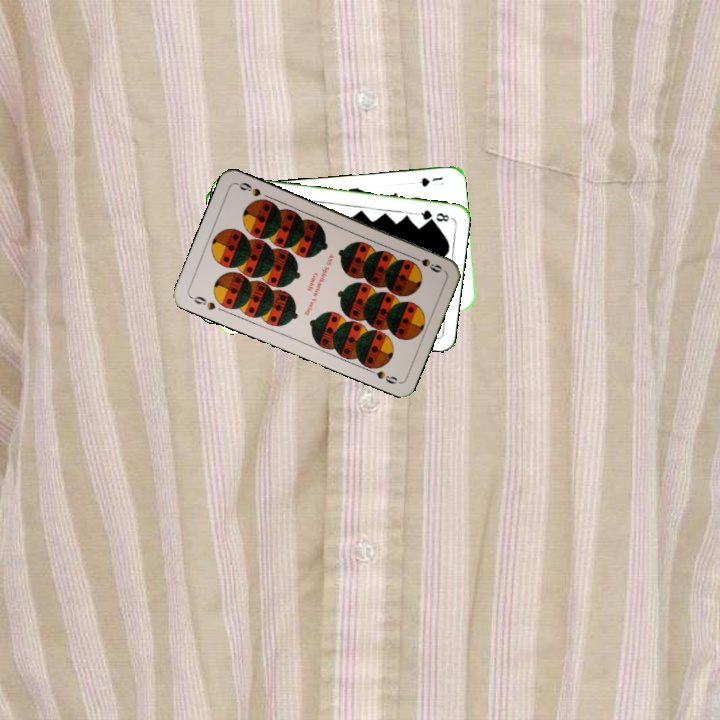G8: (413, 206, 452, 224)
GU: (415, 173, 445, 189)
S9: (407, 252, 445, 275), (187, 292, 218, 313)
